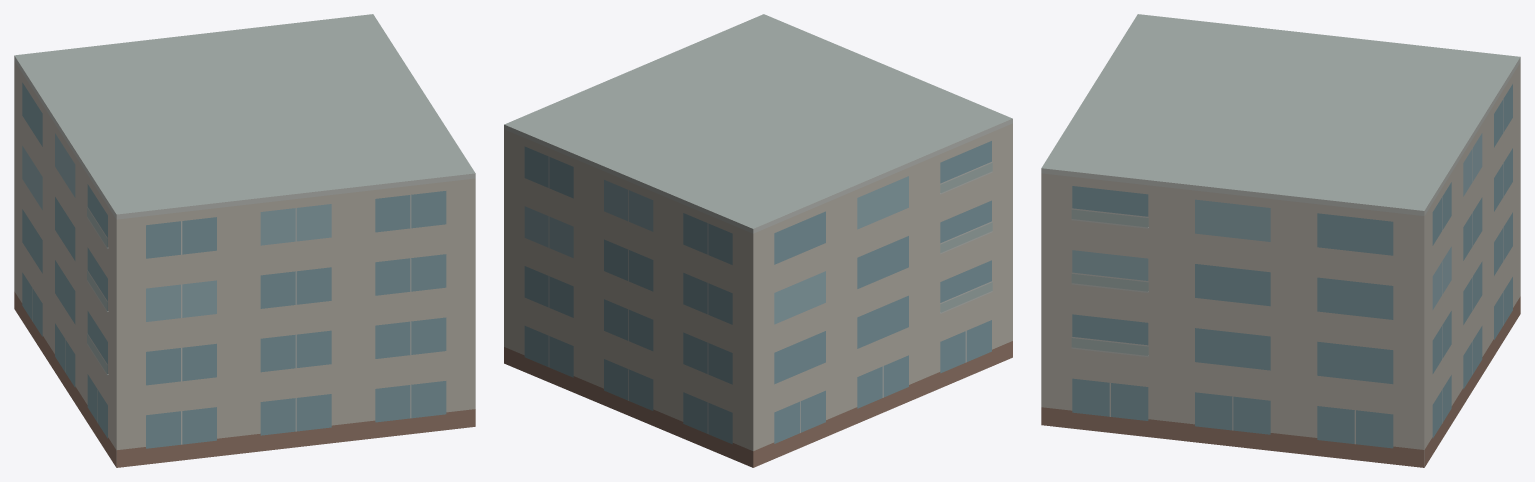
The model's file is residential-5d53d09e-c40b-4375-b6c3-c6d69e095678.glb.
3 views of the same model, side by side, from view 1: azimuth 30°, elevation 25°; view 2: azimuth 150°, elevation 25°; view 3: azimuth 270°, elevation 25° (orthographic). The views are drawn at different scales.
Visible parts, largest first — view 1: residential-5d53d09e-c40b-4375-b6c3-c6d69e095678.tmp; view 2: residential-5d53d09e-c40b-4375-b6c3-c6d69e095678.tmp; view 3: residential-5d53d09e-c40b-4375-b6c3-c6d69e095678.tmp.
Boxes of the visible parts, x1,y1,x2,y2 form: residential-5d53d09e-c40b-4375-b6c3-c6d69e095678.tmp: (14, 14, 475, 467); residential-5d53d09e-c40b-4375-b6c3-c6d69e095678.tmp: (504, 14, 1012, 467); residential-5d53d09e-c40b-4375-b6c3-c6d69e095678.tmp: (1041, 14, 1520, 467).
Size of the model in its own units: 20.07 by 12.2 by 20.64.
